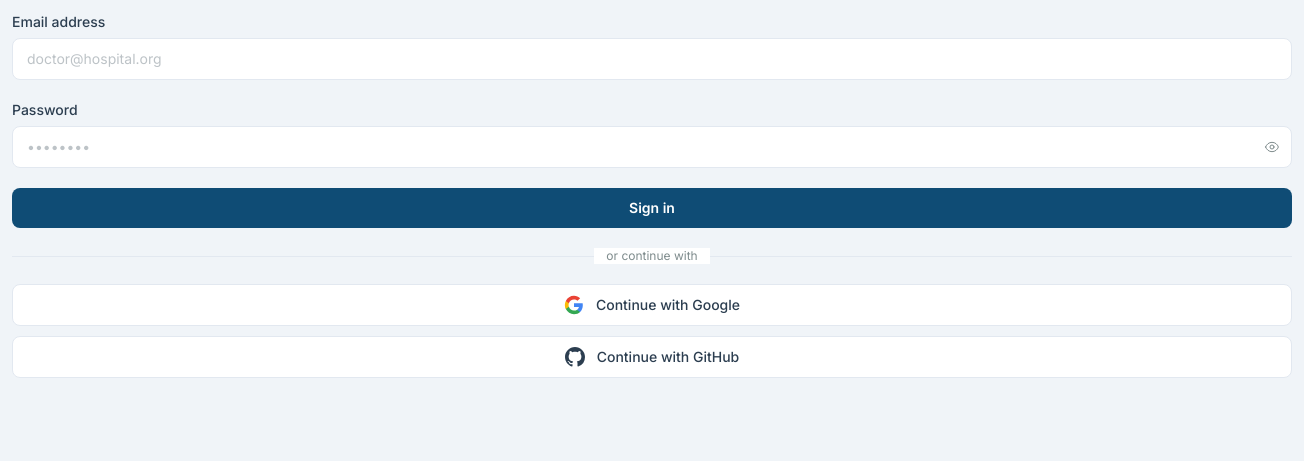
LoginForm › shows error message on login failure
Type "bad@test.com" into the field labelled "Email address" at (652, 59), box [12,38,1292,80]
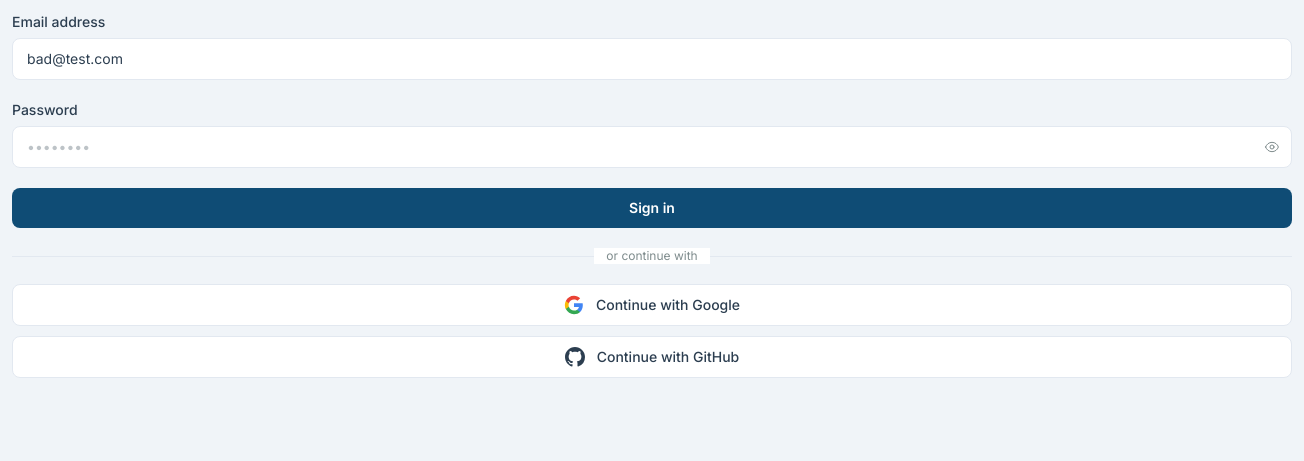
Type "wrong" into the password field labelled "Password" at (652, 147), box [12,126,1292,168]
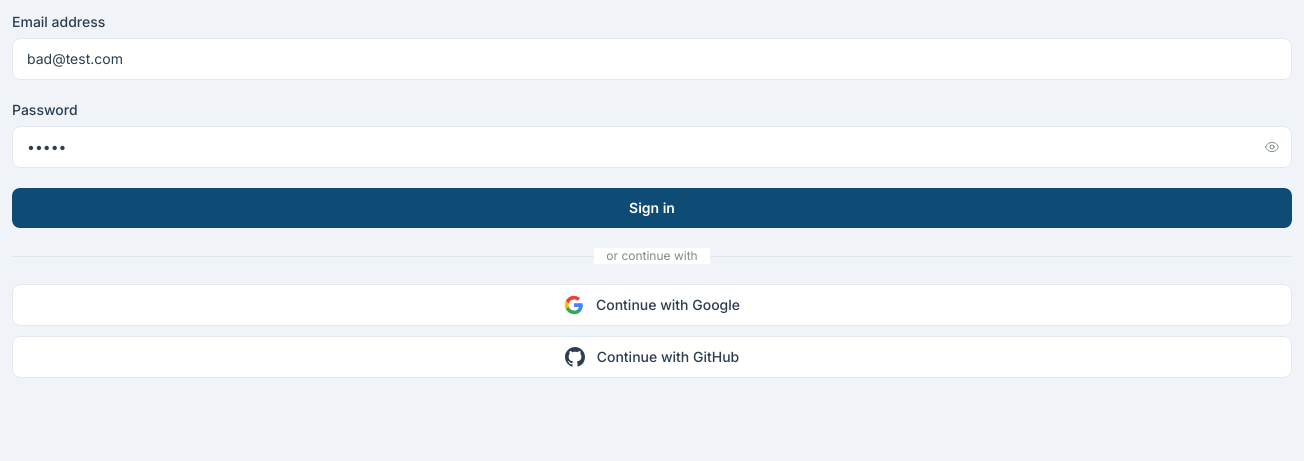
Click the button "Sign in" at (652, 208), box [12,188,1292,228]
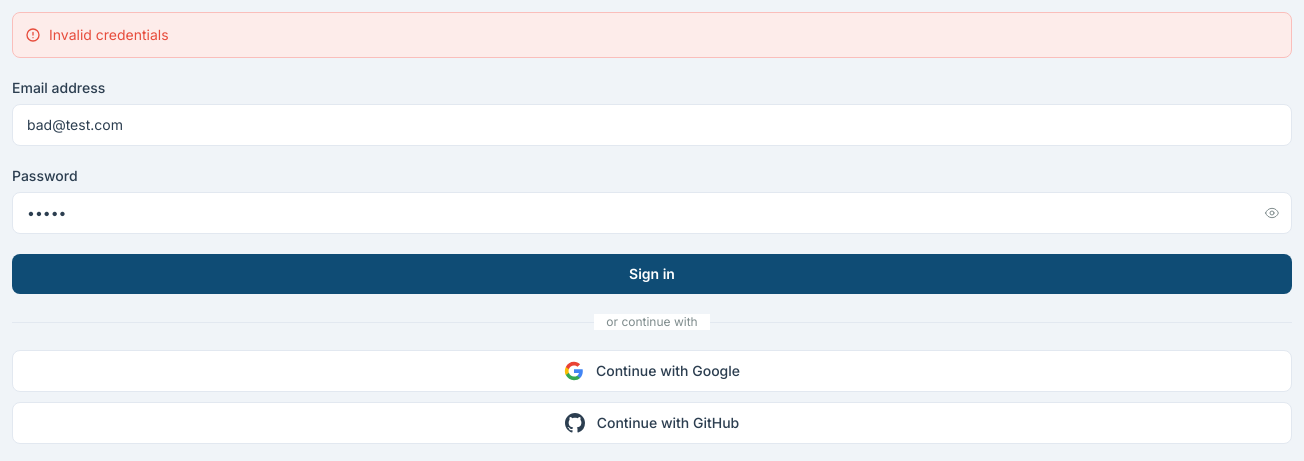
Check: the text "Invalid credentials" is shown, box [12,12,1292,58]
